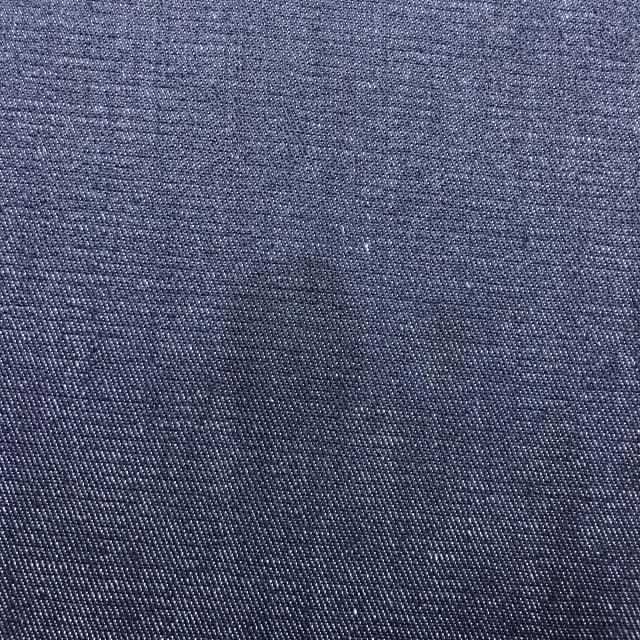stain: (220, 241, 368, 474)
